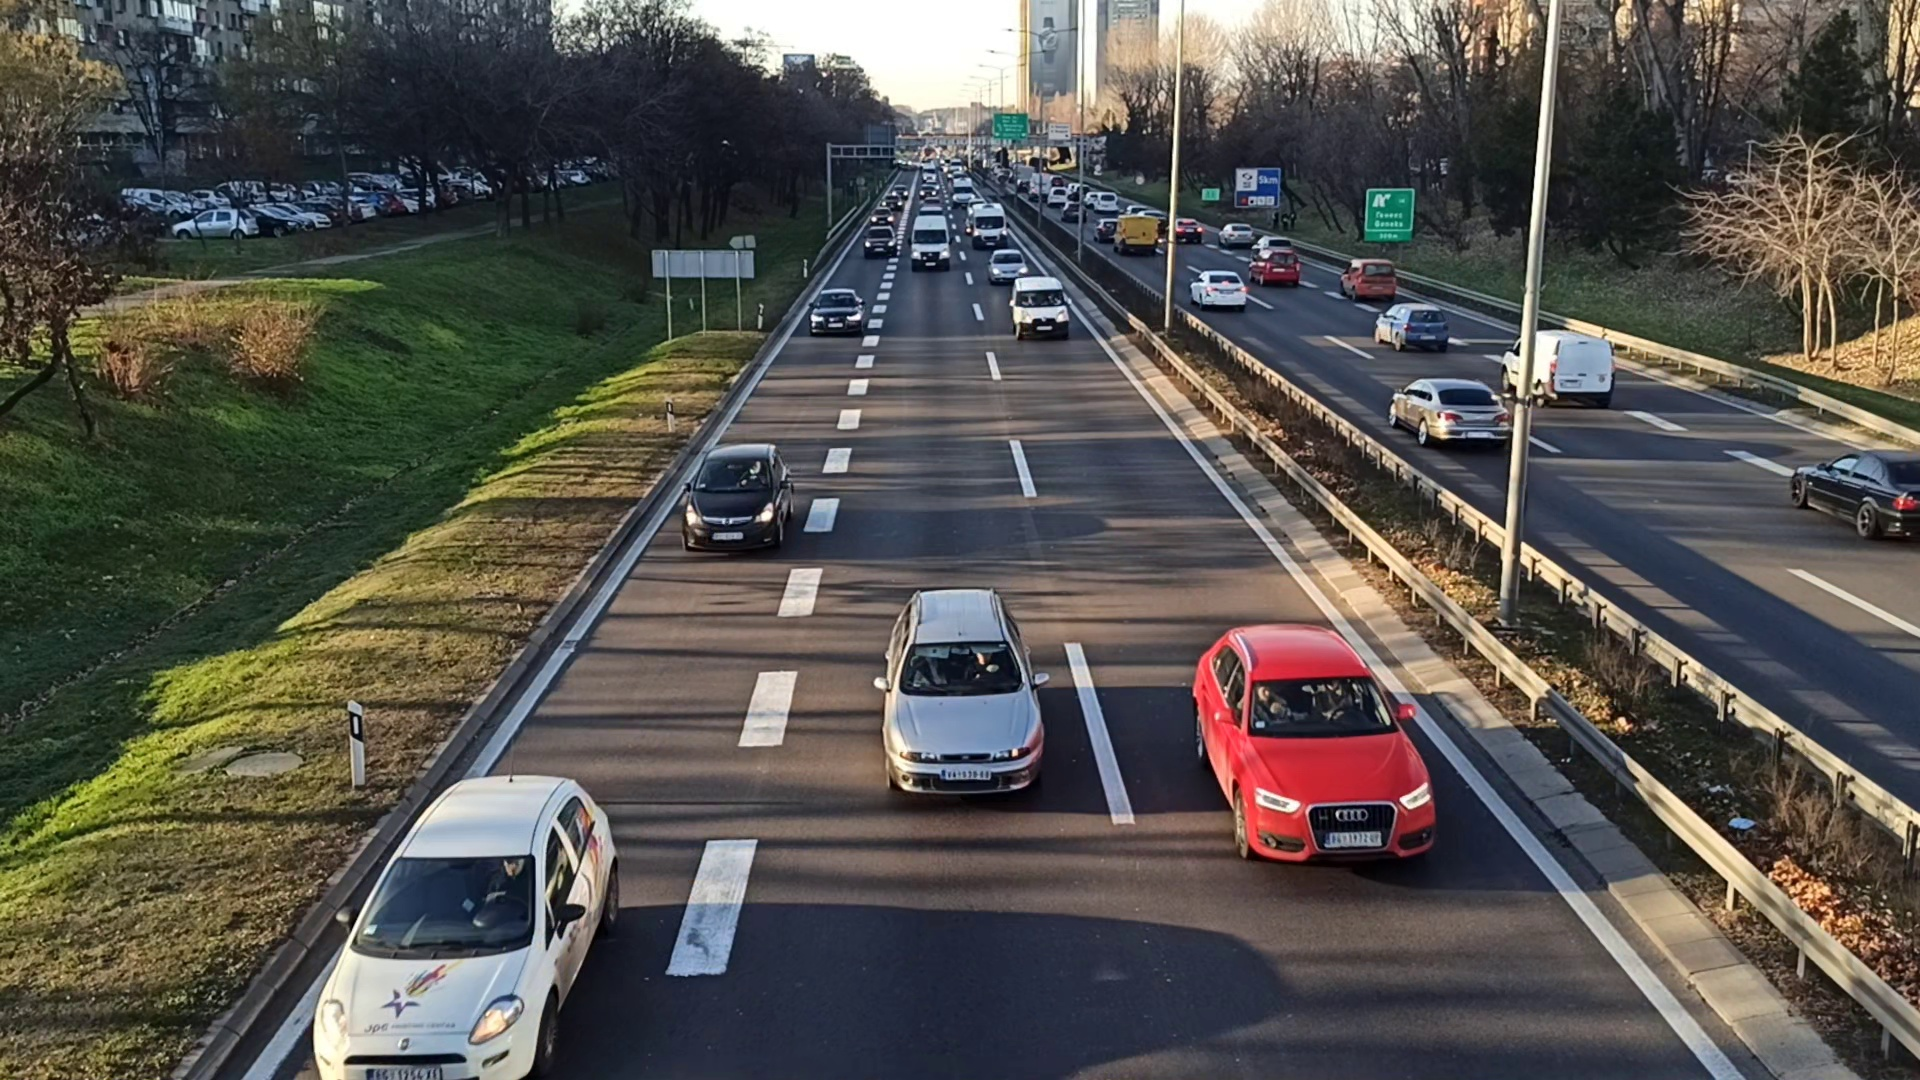car: (311, 773, 622, 1079), (1189, 620, 1440, 864), (880, 589, 1044, 799), (683, 442, 796, 549), (1789, 448, 1920, 541), (1389, 376, 1510, 450), (1502, 331, 1617, 404), (1011, 274, 1069, 340), (1375, 305, 1445, 351), (810, 284, 868, 335), (1337, 257, 1396, 307), (1191, 270, 1242, 311), (1247, 251, 1302, 287), (988, 247, 1025, 284), (1170, 214, 1201, 244), (1218, 222, 1255, 247), (862, 225, 895, 253), (869, 207, 895, 225)
van: (911, 210, 949, 269), (971, 200, 1005, 249)
